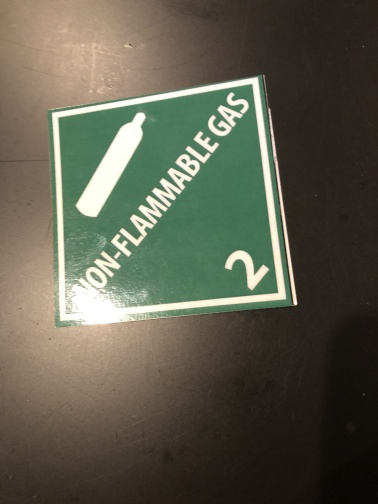NonFlammableGas: (47, 74, 299, 326)
